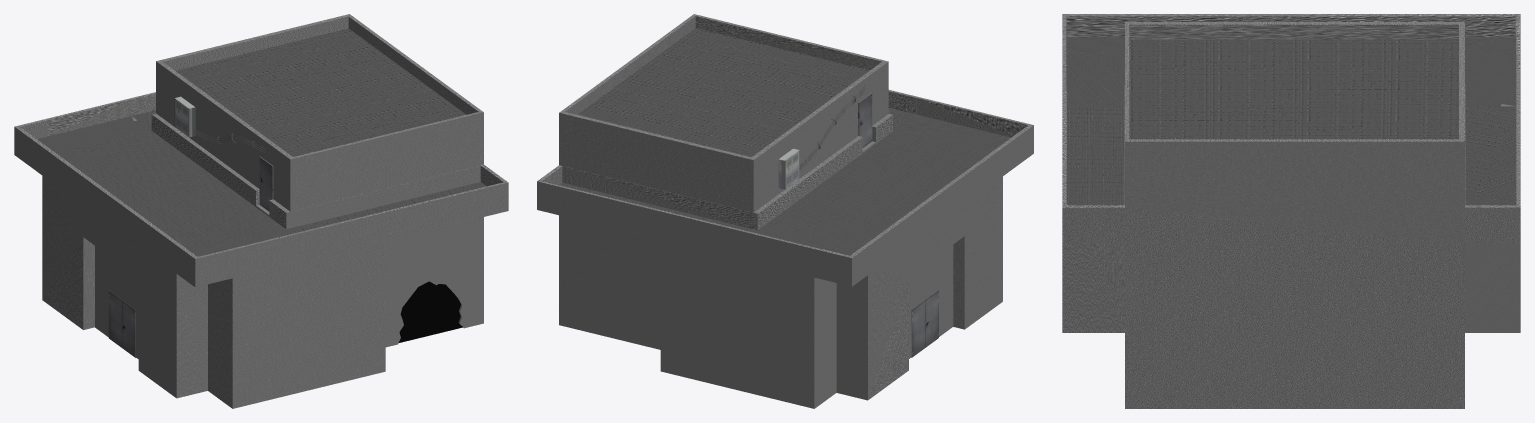
File: Home.fbx
3 renders of one model, left to right at view 1: azimuth 30°, elevation 25°; view 2: azimuth 150°, elevation 25°; view 3: azimuth 270°, elevation 25°, orthographic. The views are drawn at different scales.
Parts seen in each view (by area): view 1: Home, Плоскость, Door, Куб, UpDoor; view 2: Home, Door, Куб, UpDoor; view 3: Home.
Part boxes in pixels (x1,y1,x2,y2): Home: (14, 14, 508, 408); Плоскость: (398, 281, 462, 343); Door: (108, 290, 135, 357); Куб: (174, 96, 195, 137); UpDoor: (259, 156, 273, 211); Home: (537, 14, 1033, 408); Door: (911, 290, 938, 357); Куб: (778, 148, 799, 189); UpDoor: (858, 93, 872, 147); Home: (1062, 14, 1520, 408).
Bounding box in the file's own units: 4243 × 2742 × 4243.
